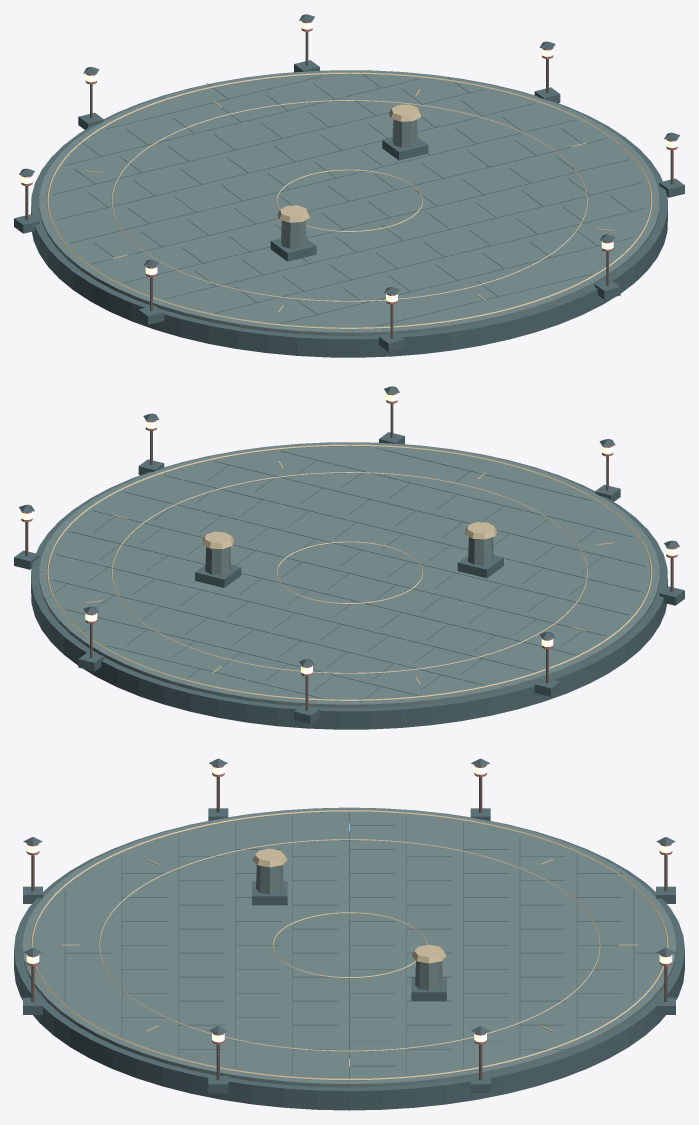
The model's file is arena.glb.
The picture shows the model from 3 angles, top to bottom: view 1: azimuth 30°, elevation 25°; view 2: azimuth 150°, elevation 25°; view 3: azimuth 270°, elevation 25°; orthographic projection. The views are drawn at different scales.
Visible parts, largest first — view 1: 练武台面, 练武台基, 铜边, 内圈, 石柱.001, 石柱, 石缝.052, 柱脚.001, 柱脚, 石缝.020, 石缝.030, 石缝.040 (+4 smaller); view 2: 练武台面, 练武台基, 铜边, 内圈, 石柱, 石柱.001, 石缝.030, 柱脚, 柱脚.001, 石缝.062, 石缝.052, 中环 (+3 smaller); view 3: 练武台面, 练武台基, 铜边, 内圈, 石柱, 石柱.001, 中环, 柱脚, 柱脚.001.
Boxes of the visible parts, box(x1,y1,x2,y2) form: 练武台面: box(39, 70, 659, 335); 练武台基: box(31, 70, 667, 357); 铜边: box(46, 72, 652, 329); 内圈: box(111, 100, 587, 301); 石柱.001: box(392, 119, 417, 147); 石柱: box(281, 220, 306, 248); 石缝.052: box(69, 119, 575, 243); 柱脚.001: box(382, 137, 428, 160); 柱脚: box(270, 238, 316, 261); 石缝.020: box(164, 182, 642, 299); 石缝.030: box(123, 159, 629, 282); 石缝.040: box(92, 138, 606, 264); 练武台面: box(39, 442, 659, 707); 练武台基: box(31, 442, 667, 729); 铜边: box(46, 444, 652, 701); 内圈: box(111, 472, 587, 673); 石柱: box(468, 537, 493, 565); 石柱.001: box(205, 547, 230, 574); 石缝.030: box(123, 491, 629, 615); 柱脚: box(457, 555, 503, 578); 柱脚.001: box(195, 564, 241, 587); 石缝.062: box(56, 554, 534, 671); 石缝.052: box(69, 531, 575, 654); 中环: box(276, 541, 422, 604); 练武台面: box(22, 807, 676, 1087); 练武台基: box(14, 807, 684, 1110); 铜边: box(30, 810, 668, 1080); 内圈: box(98, 839, 600, 1051); 石柱: box(256, 865, 283, 894); 石柱.001: box(415, 961, 442, 990); 中环: box(272, 912, 426, 978); 柱脚: box(252, 881, 287, 905); 柱脚.001: box(411, 977, 446, 1001).
Size of the model in its own units: 23.6 by 2.93 by 23.6.
